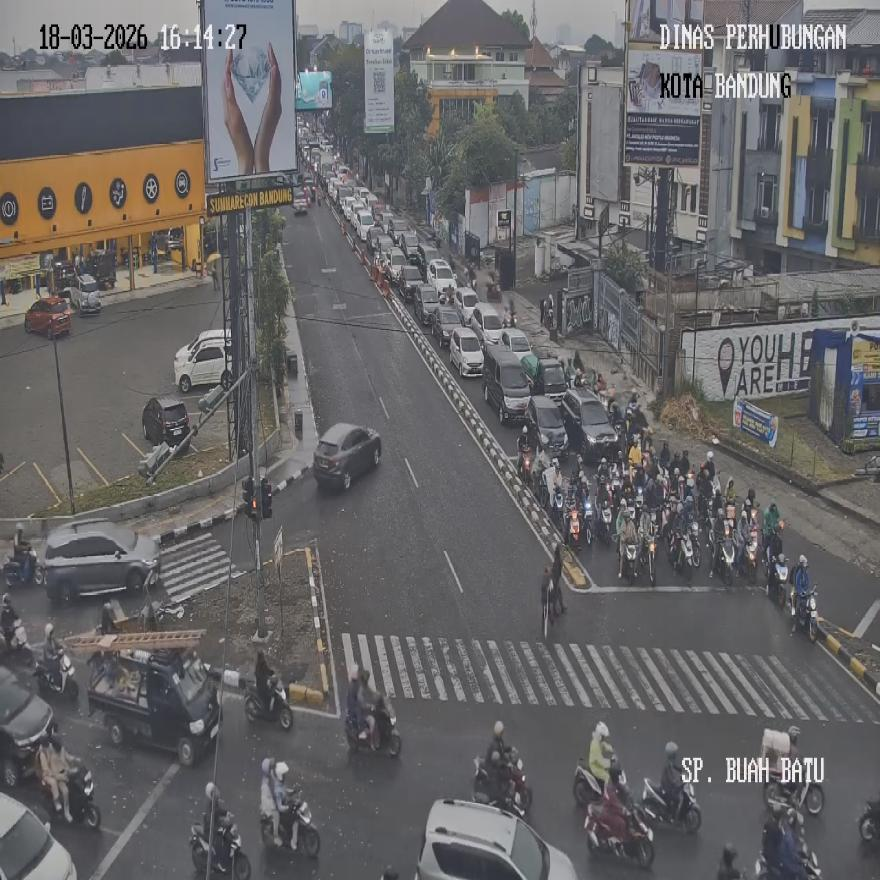Bis: (223, 42, 282, 174)
Motor: (414, 798, 577, 879), (38, 518, 160, 603), (312, 422, 382, 490), (173, 328, 233, 391)
Truk: (584, 799, 654, 869), (472, 750, 532, 818), (642, 764, 702, 832), (260, 796, 321, 859), (190, 816, 250, 880), (42, 762, 100, 828), (346, 699, 402, 757), (763, 765, 824, 815), (572, 756, 628, 806), (244, 672, 292, 728), (754, 843, 821, 880), (33, 644, 77, 700), (0, 617, 32, 666), (5, 545, 37, 587), (715, 524, 736, 586), (794, 586, 818, 640), (737, 524, 758, 583), (766, 552, 788, 608), (670, 529, 693, 581), (858, 796, 880, 848), (596, 488, 614, 545), (548, 477, 564, 534), (620, 534, 638, 584), (642, 532, 657, 586), (518, 426, 532, 483), (564, 502, 581, 546), (686, 520, 701, 568), (582, 492, 595, 546)
